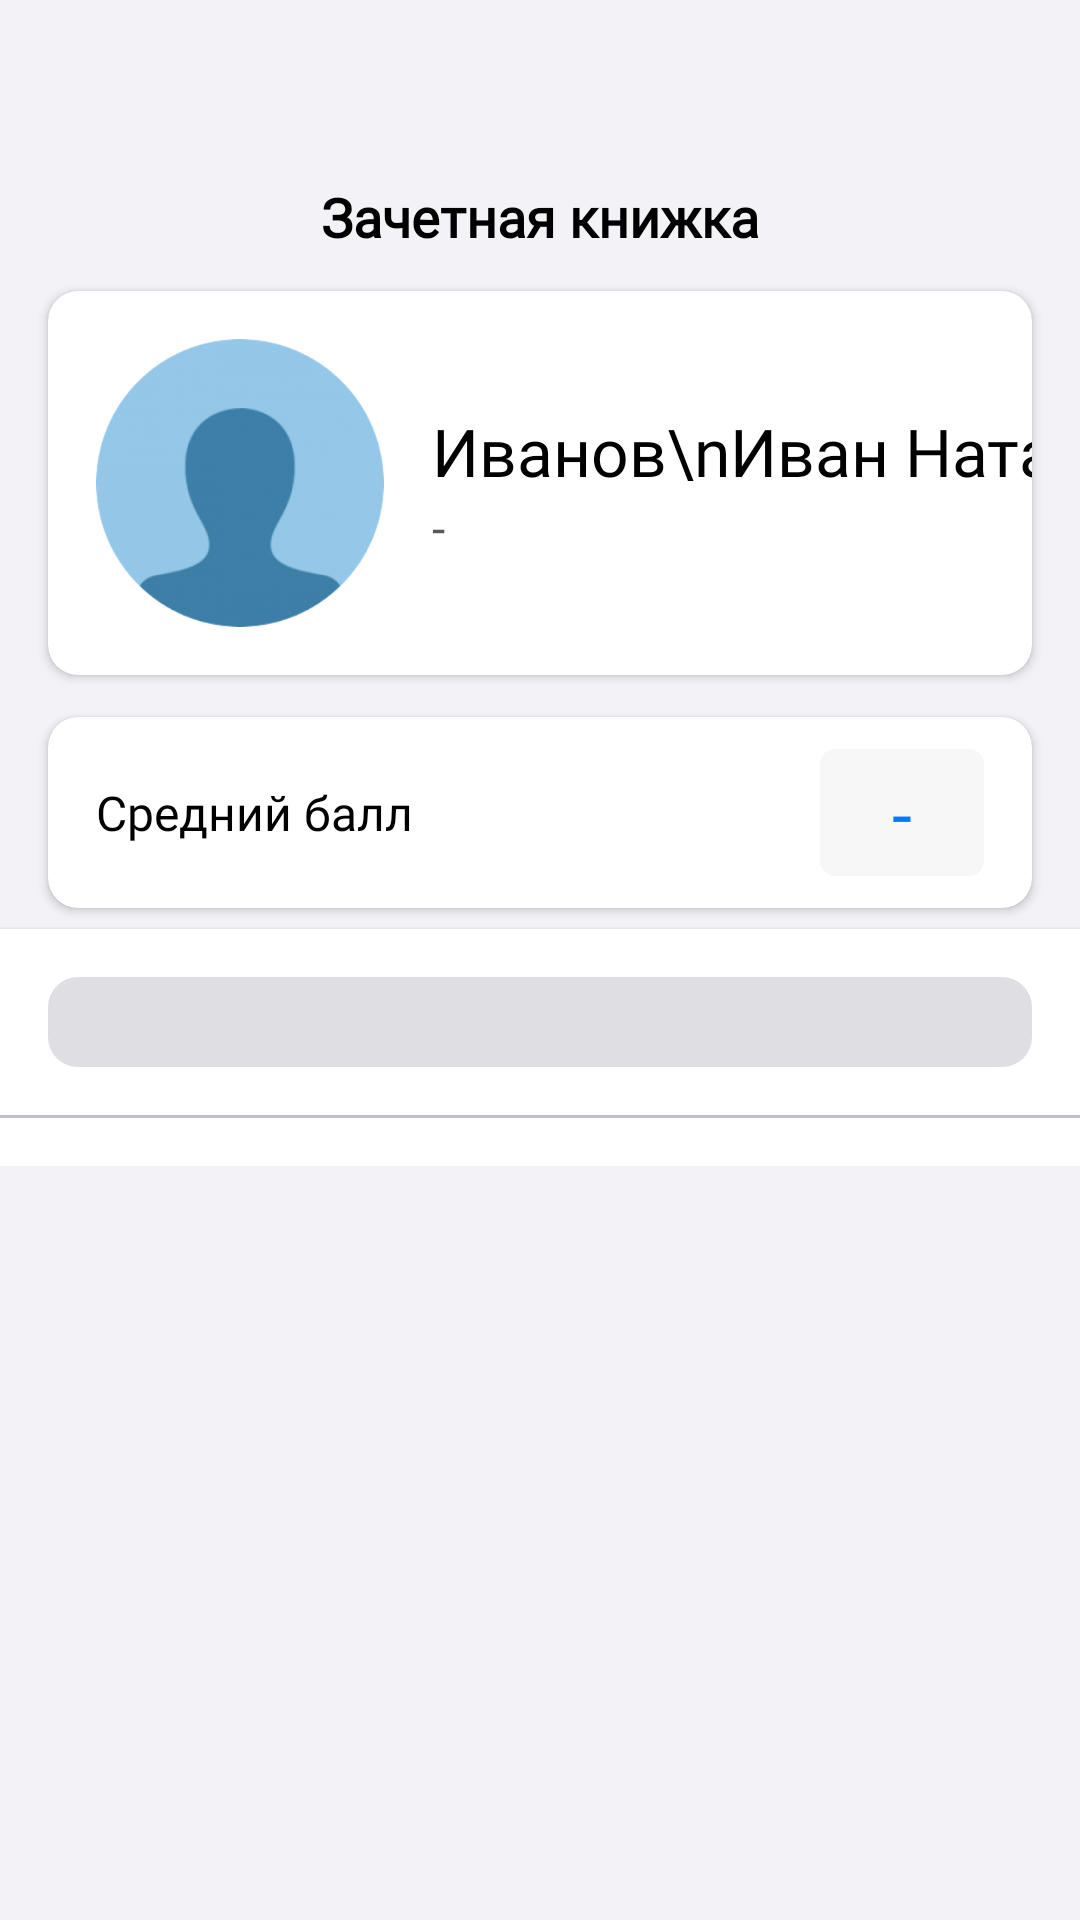

Screen size 1080×1920. Icon name, then its center in pixels as (x=x, y=y):
profile photo: (x=240, y=483)
